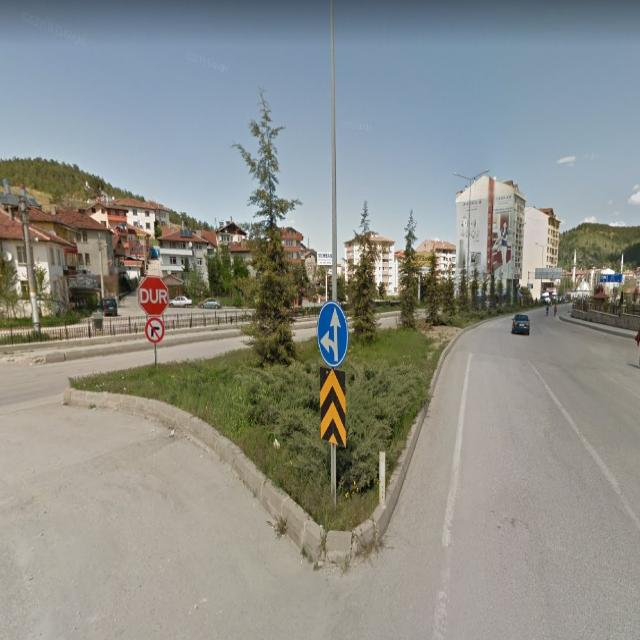dur: (138, 273, 169, 315)
ilerisol: (316, 300, 348, 366)
sagadonulmez: (145, 317, 166, 343)
